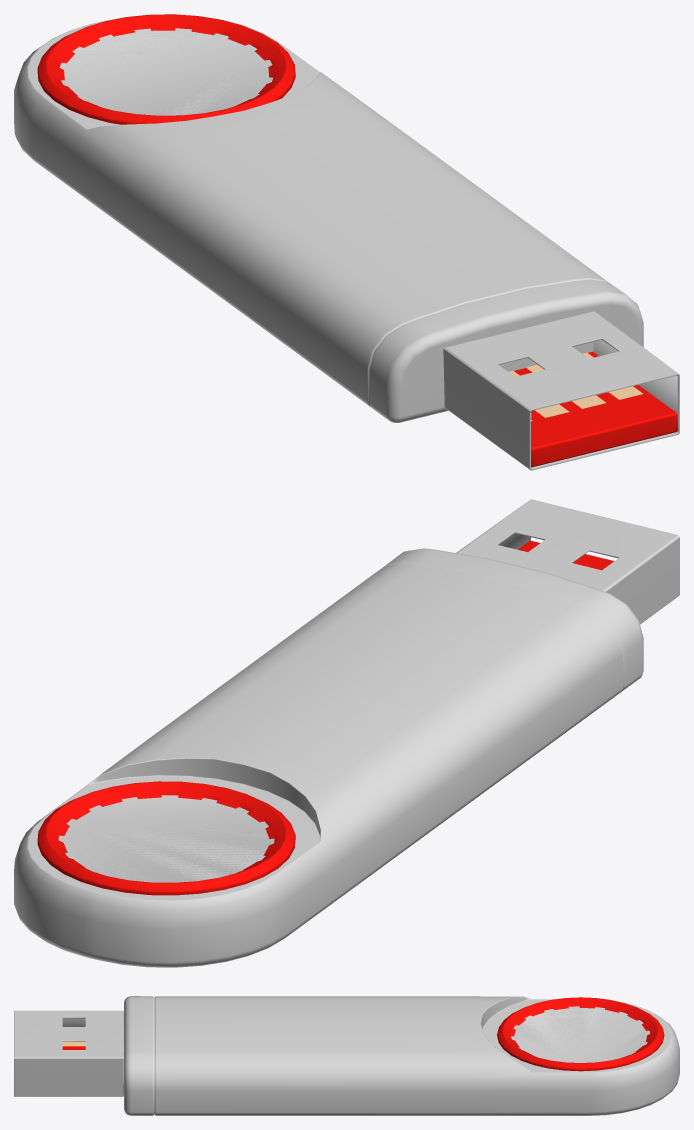
The model's file is USB_drive.fbx.
The picture shows the model from 3 angles, top to bottom: view 1: azimuth 30°, elevation 25°; view 2: azimuth 150°, elevation 25°; view 3: azimuth 270°, elevation 25°; orthographic projection. The views are drawn at different scales.
Parts seen in each view (by area): view 1: Cube.001; view 2: Cube.001; view 3: Cube.001.
Part boxes in pixels (bbox=[...]): Cube.001: bbox=[14, 14, 679, 470]; Cube.001: bbox=[14, 499, 679, 967]; Cube.001: bbox=[14, 996, 679, 1115].
Bounding box in the file's own units: 2.05 × 0.6544 × 7.15.
